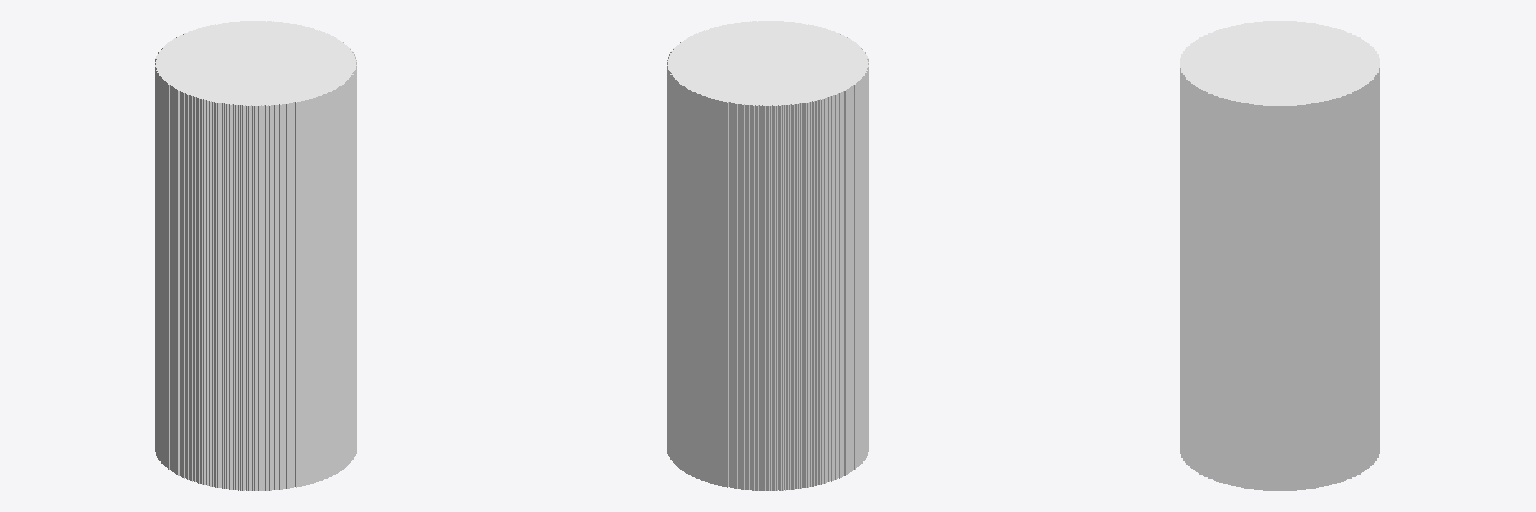
The model's file is forest1.4-151.obj.
3 renders of one model, left to right at view 1: azimuth 30°, elevation 25°; view 2: azimuth 150°, elevation 25°; view 3: azimuth 270°, elevation 25°, orthographic.
Parts seen in each view (by area): view 1: object 1; view 2: object 1; view 3: object 1.
Boxes of the visible parts, <box> form: object 1: <box>155,21,356,490</box>; object 1: <box>667,21,868,490</box>; object 1: <box>1180,21,1379,490</box>.
Size of the model in its own units: 12.2 by 25.6 by 12.1.